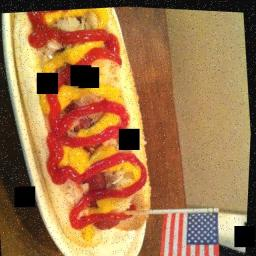hotdog: (51, 13, 135, 234)
